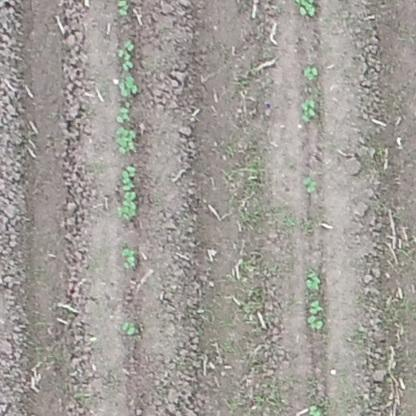vc: (116, 165, 143, 221), (114, 39, 135, 70), (116, 126, 138, 153), (300, 97, 320, 125), (116, 76, 140, 98), (119, 246, 138, 270), (305, 268, 321, 291), (302, 175, 319, 196), (298, 1, 318, 17), (304, 63, 320, 82), (307, 316, 325, 332), (120, 321, 139, 336), (116, 105, 130, 124), (308, 298, 323, 314), (307, 402, 322, 416), (117, 1, 130, 14)
